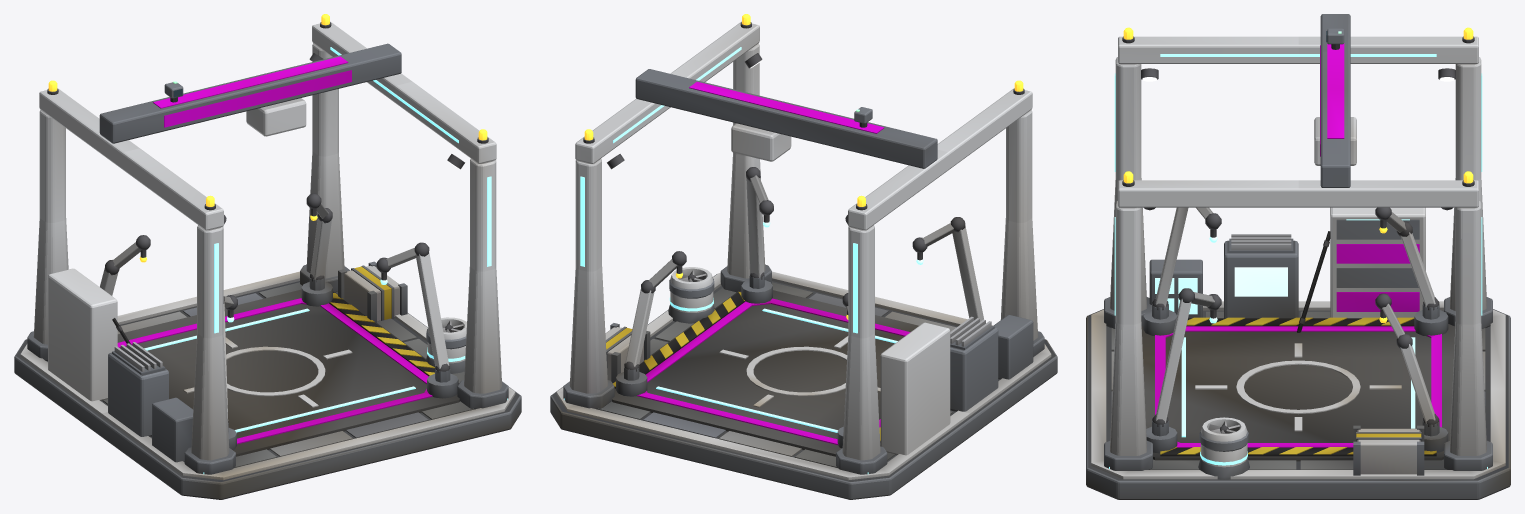
Rendered from repair_bay_future.glb.
The picture shows the model from 3 angles, left to right: view 1: azimuth 30°, elevation 25°; view 2: azimuth 150°, elevation 25°; view 3: azimuth 270°, elevation 25°; orthographic projection. The views are drawn at different scales.
Parts seen in each view (by area): view 1: Body; view 2: Body; view 3: Body.
Boxes of the visible parts, bbox=[...] form: Body: bbox=[14, 14, 521, 499]; Body: bbox=[550, 14, 1057, 499]; Body: bbox=[1086, 14, 1510, 499].
Size of the model in its own units: 4 by 3.54 by 4.
1 material, 1 textured.
